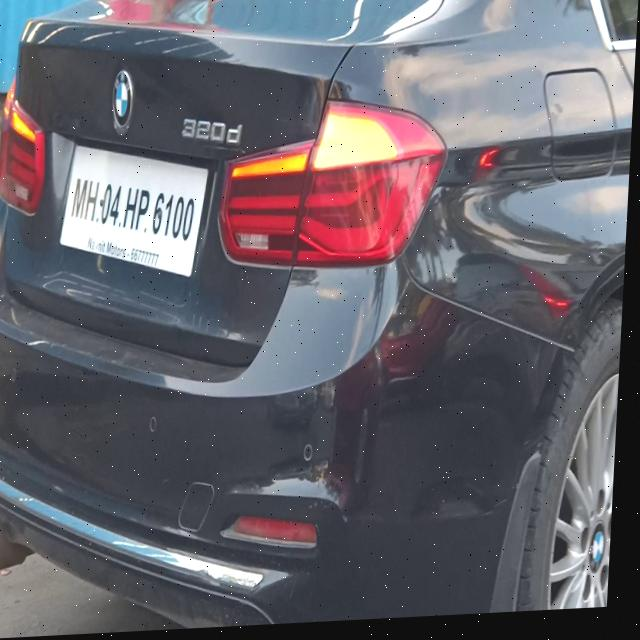plate: (56, 127, 215, 295)
